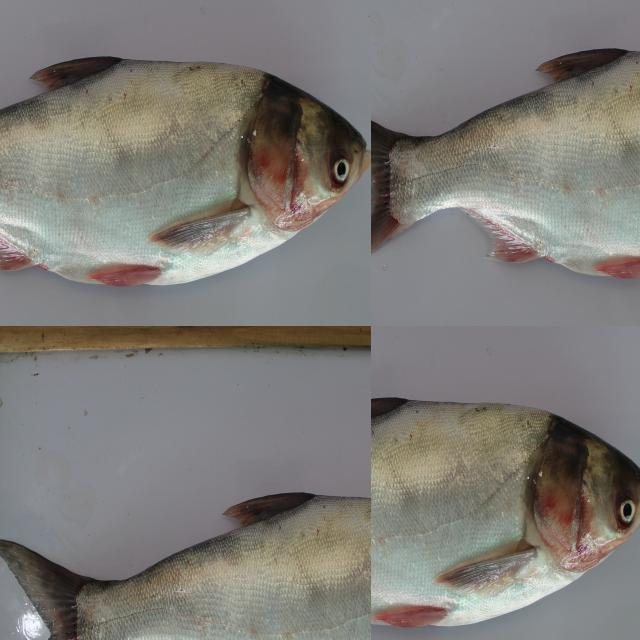fish: (371, 380, 640, 617), (0, 326, 127, 458)
